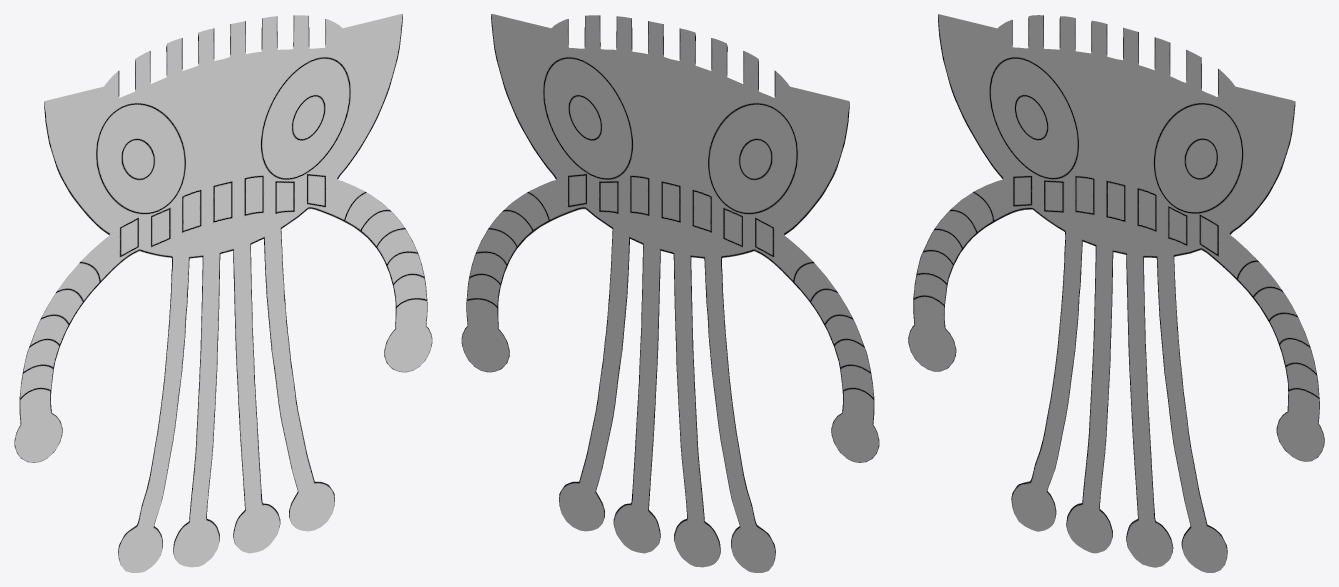
The model's file is 4_nazzo_fix.fbx.
The picture shows the model from 3 angles, left to right: view 1: azimuth 30°, elevation 25°; view 2: azimuth 150°, elevation 25°; view 3: azimuth 330°, elevation 25°; orthographic projection.
Visible parts, largest first — view 1: wedsd; view 2: wedsd; view 3: wedsd.
Boxes of the visible parts, x1=… form: wedsd: x1=14, y1=14, x2=432, y2=572; wedsd: x1=461, y1=14, x2=879, y2=572; wedsd: x1=908, y1=14, x2=1324, y2=572.
Bounding box in the file's own units: 9.28 × 11.34 × 4.96e-07.
Materials: 1 (1 with a texture image).
